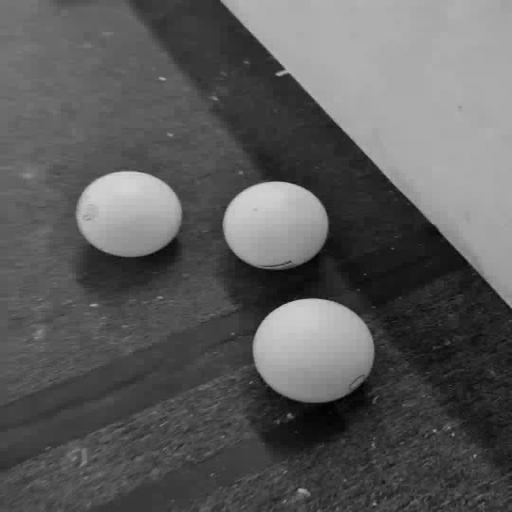fuel: (253, 299, 374, 403), (223, 182, 328, 270), (76, 170, 182, 257)
